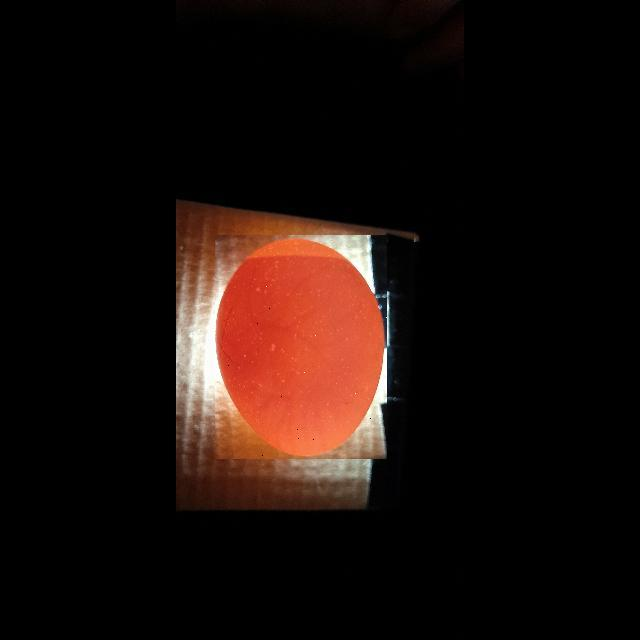Fertile: (215, 235, 387, 459)
